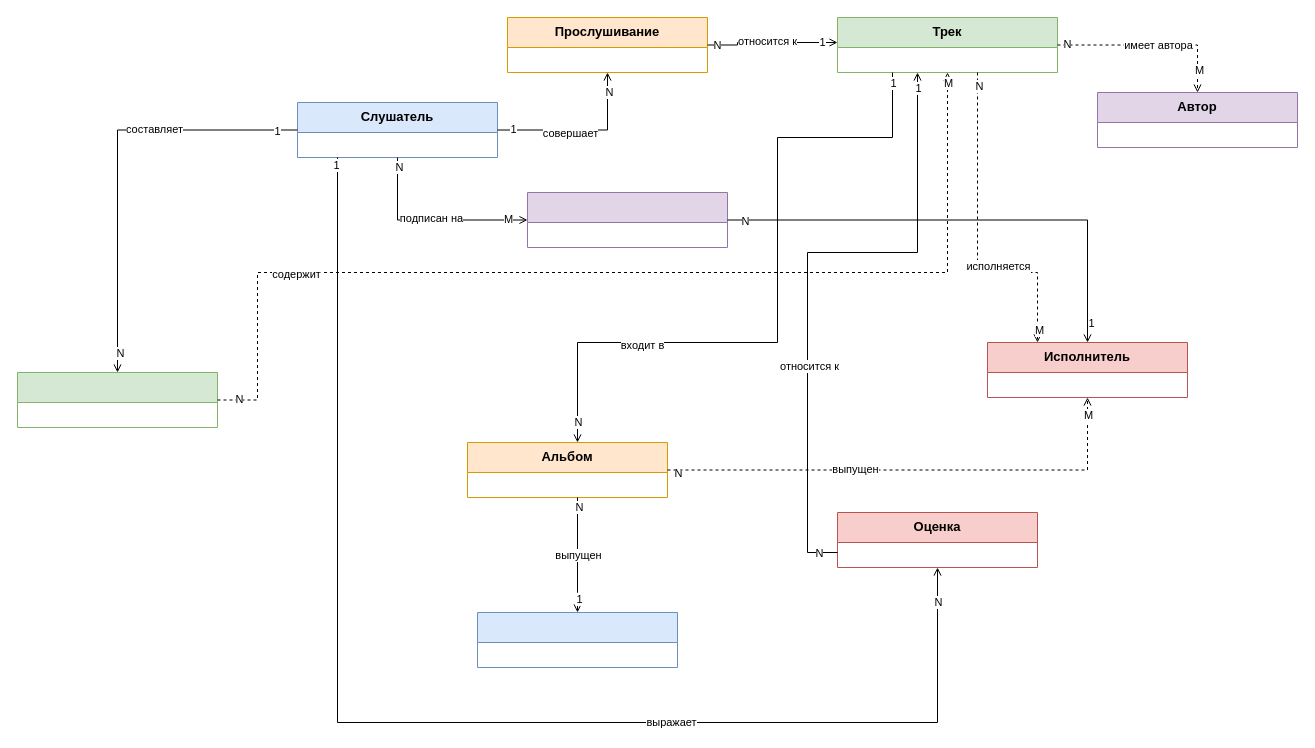
Some shapes in this 1315 by 748 pixel diagram are drawn without their labels. The centre of each missing label's shape, as x and y in pixels:
Лейбл: the point at 577,640
Подписка на исполнителя: the point at 627,220
Сборник (плейлист): the point at 117,400
